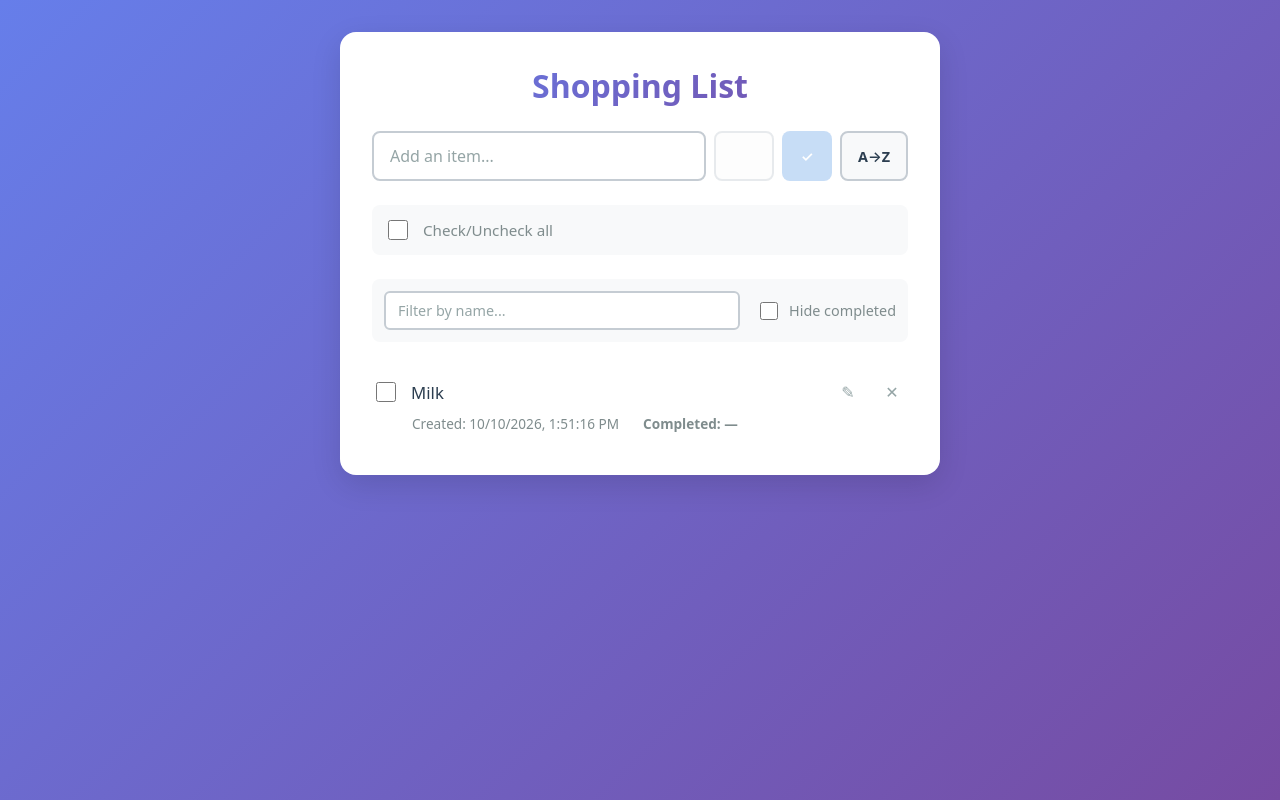
App › shows a toast when editing an item fails
This screenshot has width=1280, height=800.
Click the button "✎" at (848, 392), box [832,376,864,408]
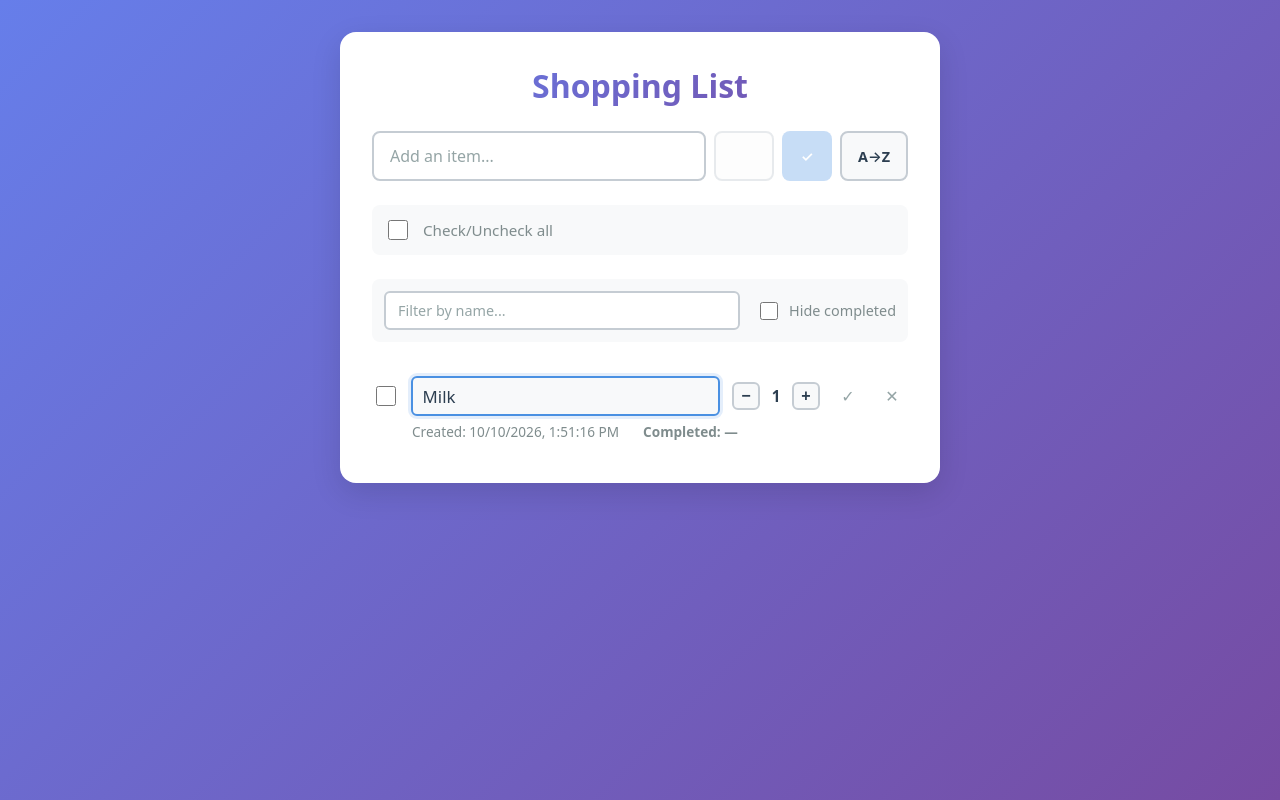
Replace the text in the field showing "Milk" with "Bread" at (566, 396), box [411,376,720,416]
Then press Enter
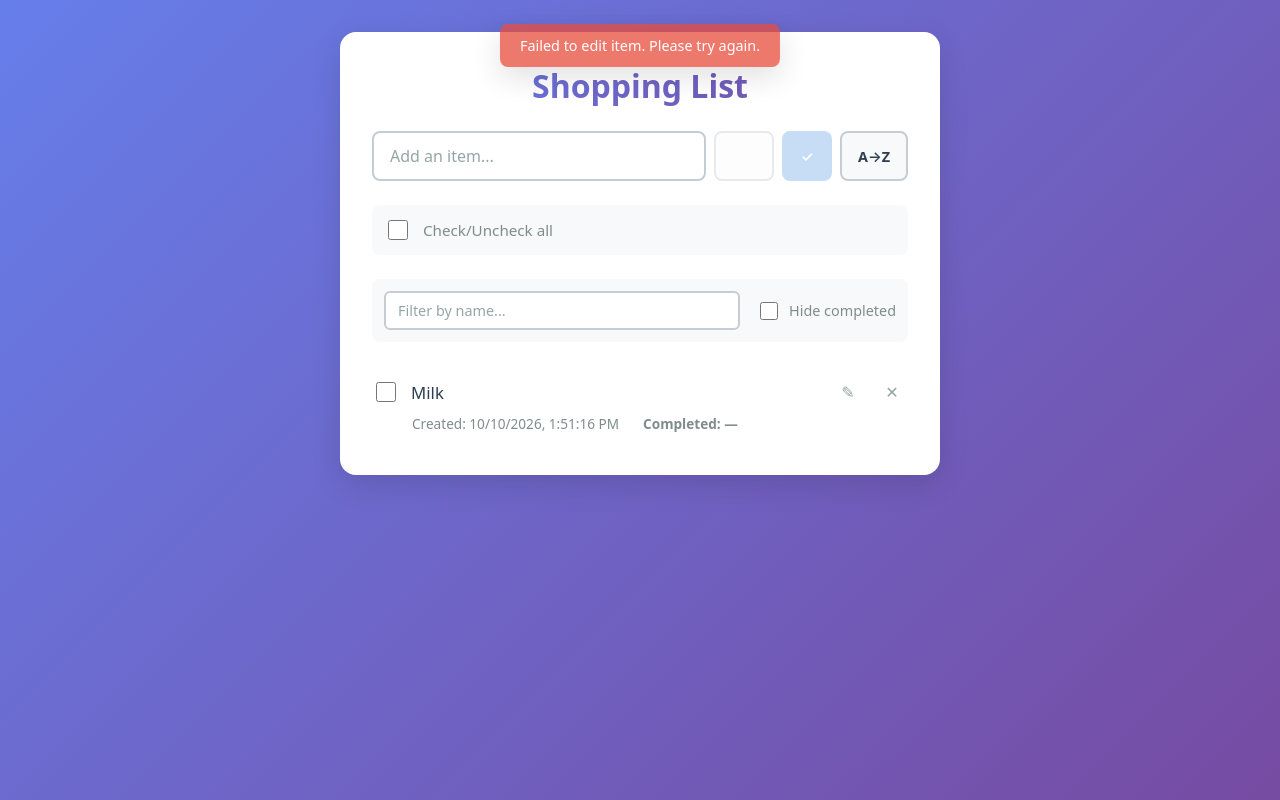
Check: the text "Failed to edit item. Please try again." is shown, box [500,24,780,67]
